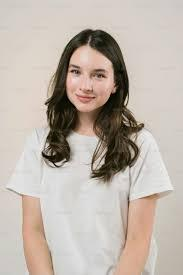person: (41, 18, 141, 174)
